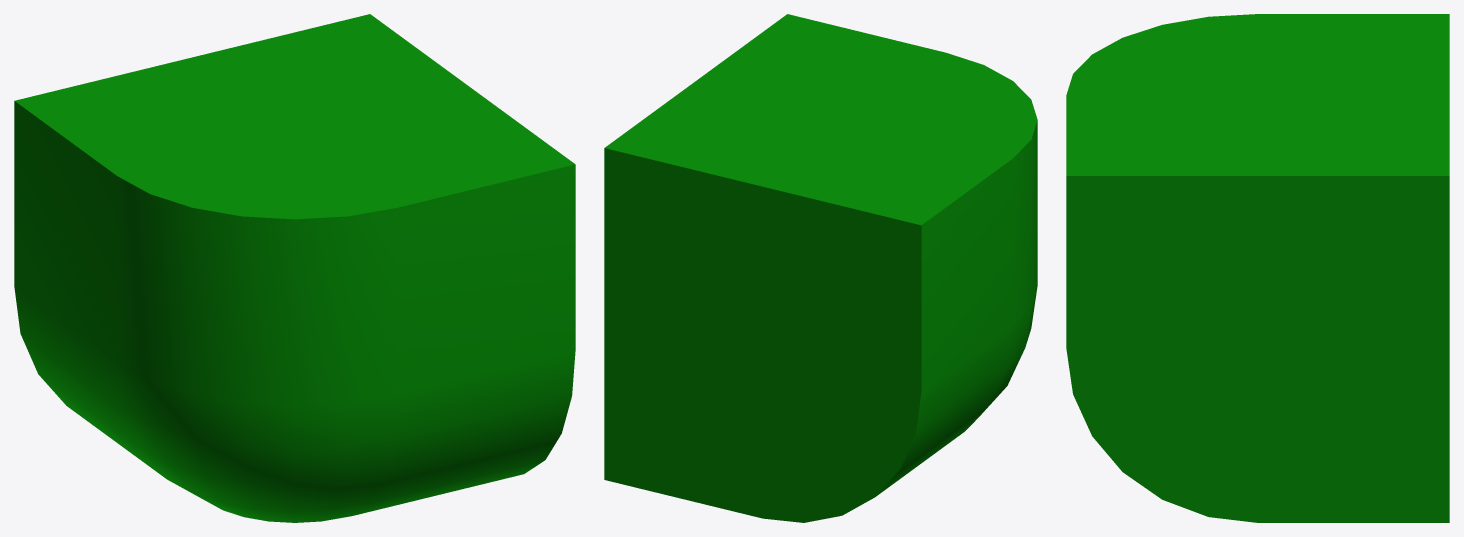
Rendered from ENDSquareGrass.fbx.
The picture shows the model from 3 angles, left to right: view 1: azimuth 30°, elevation 25°; view 2: azimuth 150°, elevation 25°; view 3: azimuth 270°, elevation 25°; orthographic projection. The views are drawn at different scales.
Visible parts, largest first — view 1: Tile_Corner_Foundation_End; view 2: Tile_Corner_Foundation_End; view 3: Tile_Corner_Foundation_End.
Part boxes in pixels (x1,y1,x2,y2): Tile_Corner_Foundation_End: (14, 14, 575, 522); Tile_Corner_Foundation_End: (604, 14, 1037, 522); Tile_Corner_Foundation_End: (1066, 14, 1449, 522).
Bounding box in the file's own units: 200 × 200 × 200.
